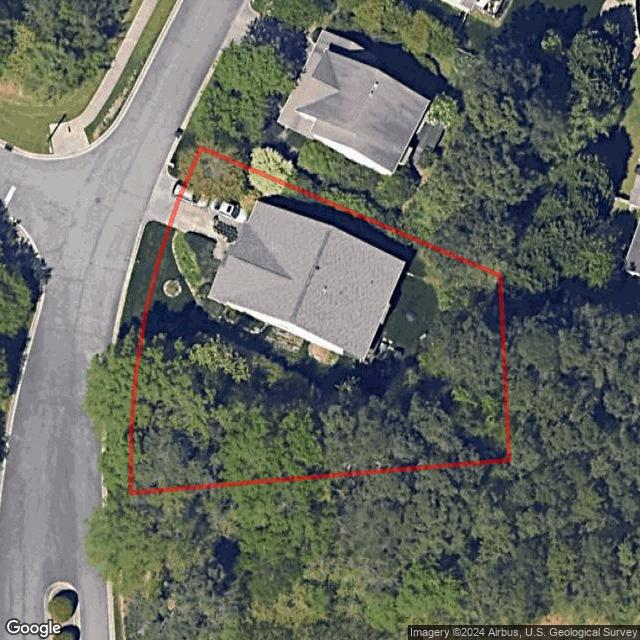Driveway: (169, 183, 249, 251)
Extra-Driveway: (148, 170, 186, 228)
Extra-Lawn: (107, 222, 170, 494), (168, 140, 201, 184)
House: (207, 201, 407, 362)
Lawn: (131, 148, 512, 493)
Other: (128, 241, 511, 494), (171, 230, 340, 364), (161, 279, 183, 298)
Sidewalk: (213, 246, 228, 260)
